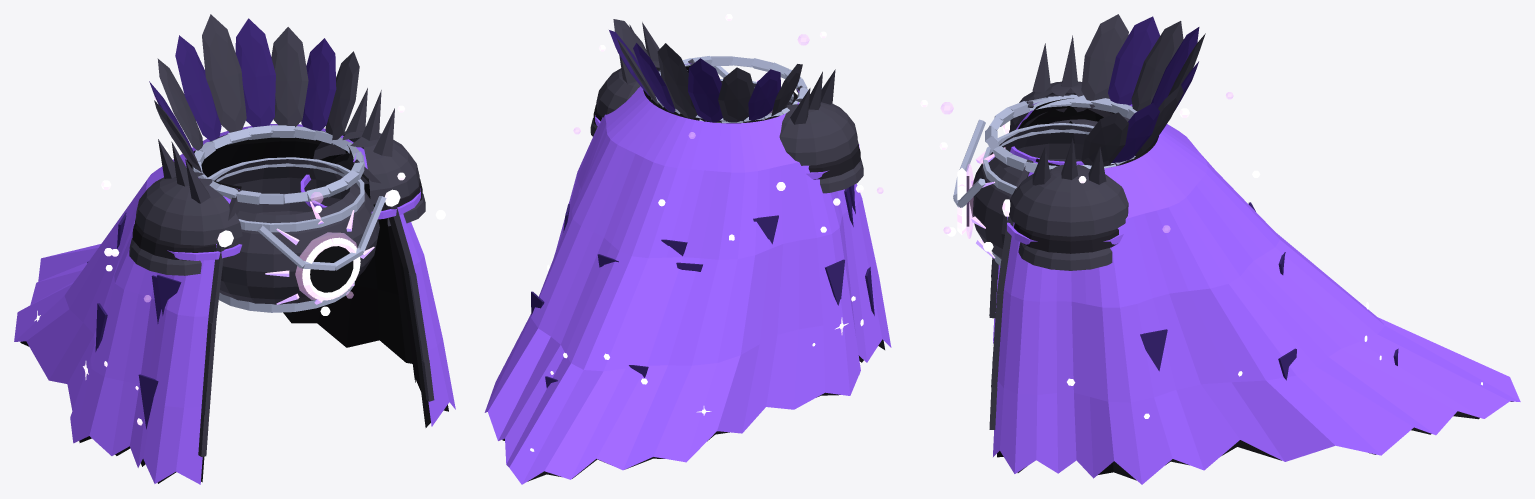
File: the_uninvited_mantle.glb
The picture shows the model from 3 angles, left to right: view 1: azimuth 30°, elevation 25°; view 2: azimuth 150°, elevation 25°; view 3: azimuth 270°, elevation 25°; orthographic projection. The views are drawn at different scales.
Parts seen in each view (by area): view 1: the_uninvited_mantle; view 2: the_uninvited_mantle; view 3: the_uninvited_mantle.
Boxes of the visible parts, bbox=[...] form: the_uninvited_mantle: bbox=[14, 14, 455, 484]; the_uninvited_mantle: bbox=[484, 14, 891, 484]; the_uninvited_mantle: bbox=[920, 14, 1520, 484].
Size of the model in its own units: 1.87 by 1.93 by 2.85.
